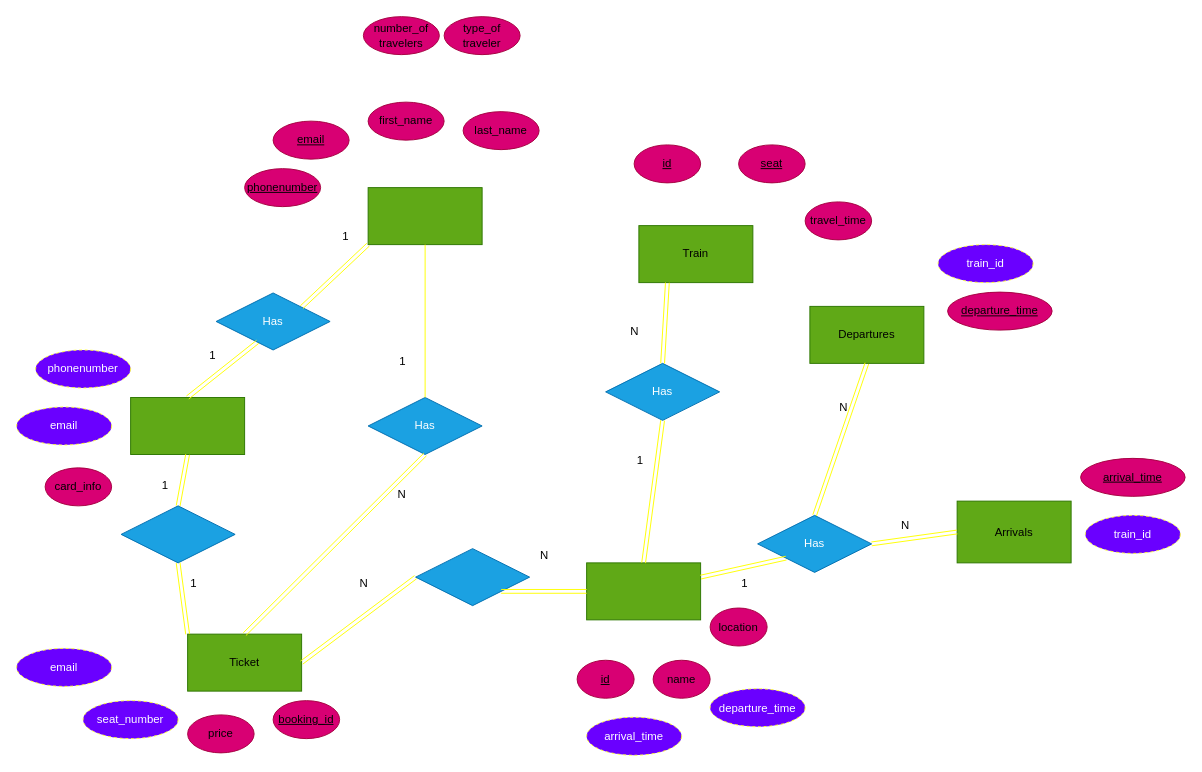
Some shapes in this 1202 by 772 pixel diagram are drawn without their labels. Here are the shapes that lost their labels. From the top down, the box of each, then its label:
(367, 187, 482, 245): Traveler
(130, 397, 245, 454): Payment Information
(120, 505, 235, 563): Includes
(415, 548, 530, 606): Gets information
(586, 562, 701, 620): Train Station
